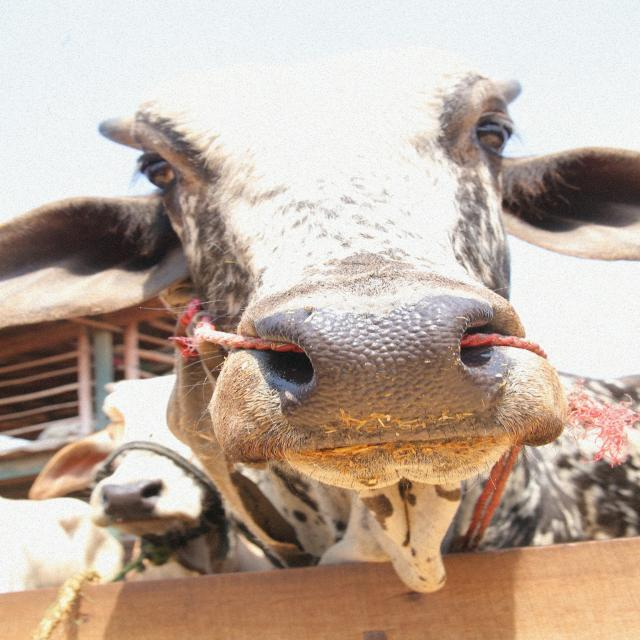muzzles: (253, 306, 521, 432), (96, 479, 165, 520)
